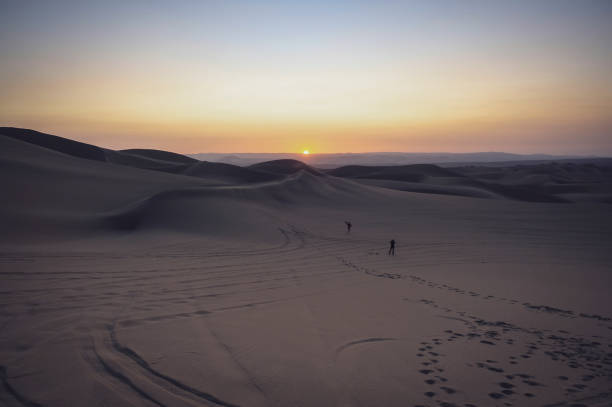human_footprint: (416, 299, 611, 405)
